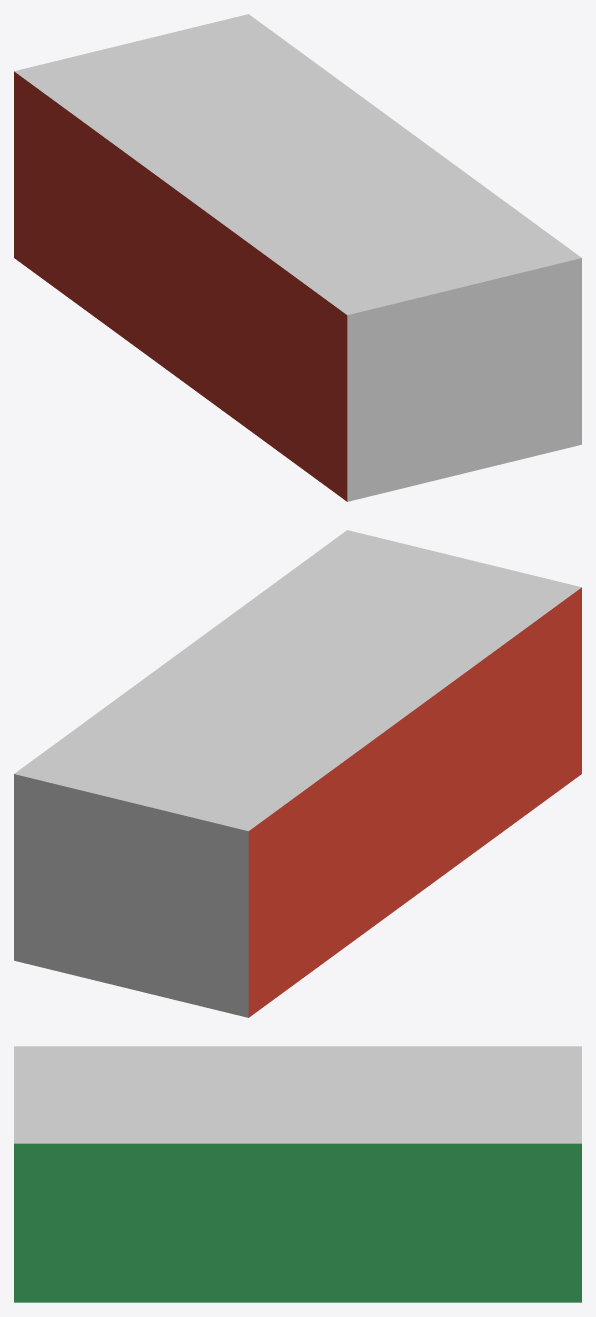
The model's file is cornell.gltf.
The picture shows the model from 3 angles, top to bottom: view 1: azimuth 30°, elevation 25°; view 2: azimuth 150°, elevation 25°; view 3: azimuth 270°, elevation 25°; orthographic projection. The views are drawn at different scales.
Visible parts, largest first — view 1: Room; view 2: Room; view 3: Room.
Part boxes in pixels (left/top/right/bottom): Room: left=14, top=14, right=581, bottom=501; Room: left=14, top=530, right=581, bottom=1017; Room: left=14, top=1046, right=581, bottom=1302.
Bounding box in the file's own units: 3.97 × 3.02 × 9.77.
